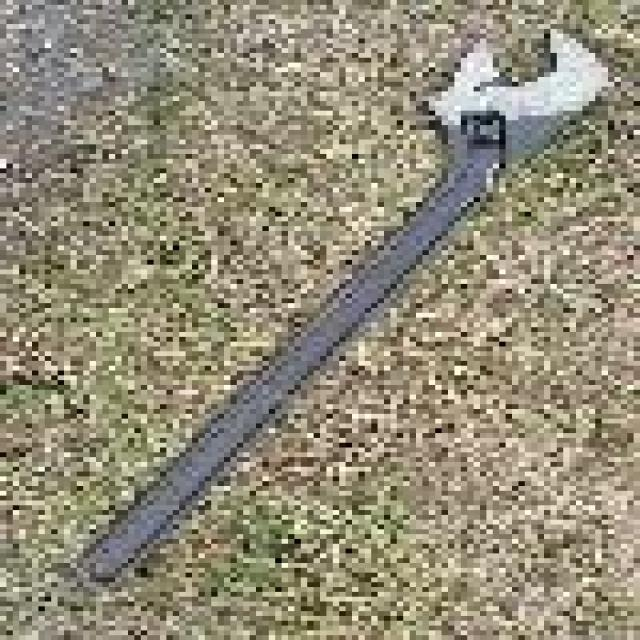wrench: (72, 26, 612, 584)
